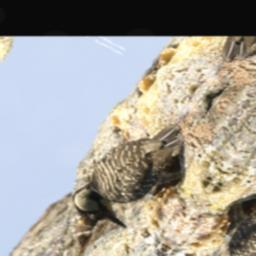Woodpecker: (63, 103, 212, 245)
